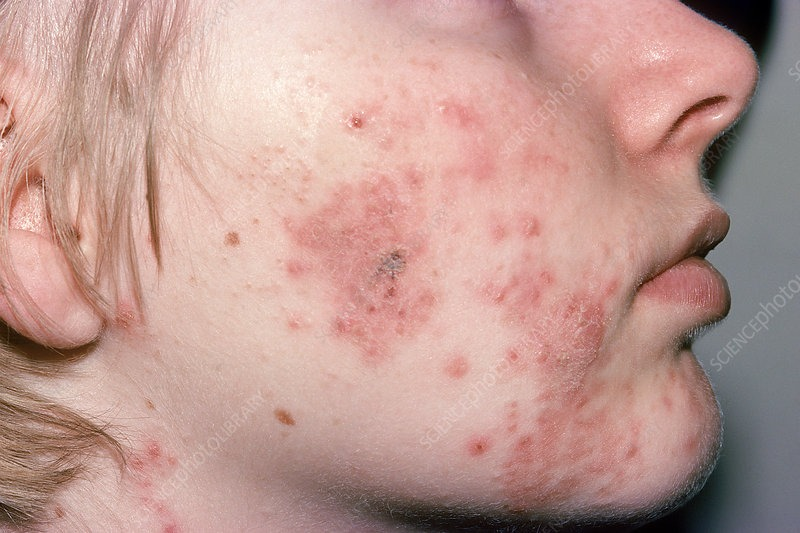Acne: (339, 101, 373, 137), (220, 220, 244, 249)
